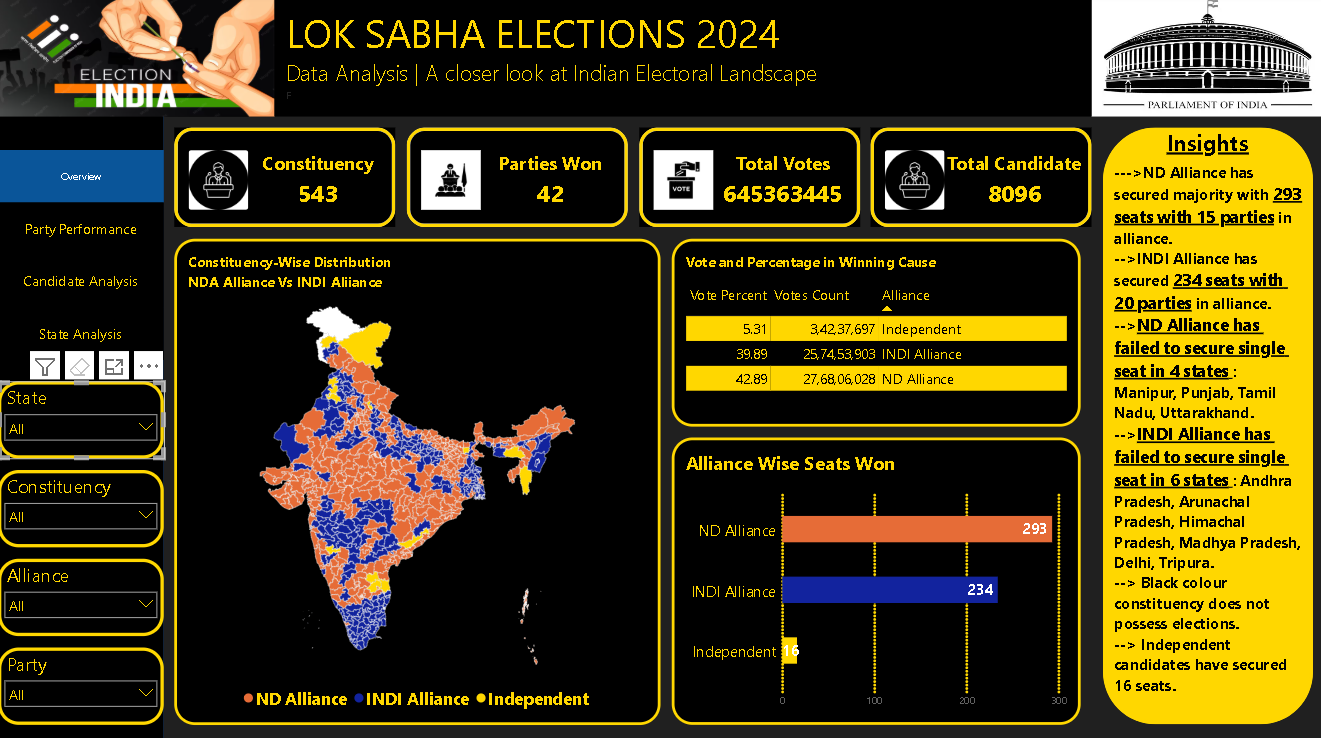

The page's visual inventory and layout, read from the dashboard file:
{"tool":"powerbi","page":{"name":"Overview","canvas":[1920,1080],"ordinal":0},"visuals":[{"type":"shape","box":[0,0,240,1080],"z":0},{"type":"shape","box":[240,0,1680,176],"z":1000},{"type":"image","box":[1584,0,336,176],"z":2000},{"type":"textbox","box":[416,16,928,160],"z":3000},{"type":"pageNavigator","box":[0,224,240,304],"z":4000},{"type":"shapeMap","title":"Constituency-Wise Distribution ","fields":{"Category":["constituency.Constituency"],"Series":["ndavsindi.Alliance"]},"box":[256,352,704,704],"z":5000},{"type":"cardVisual","fields":{"Data":["Sum(total_candidate_constituency.Total_Candidate)"]},"box":[1264,192,320,144],"z":6000},{"type":"cardVisual","fields":{"Data":["Sum(constituencywise_details.totaL_votes)"]},"box":[928,192,320,144],"z":7000},{"type":"cardVisual","fields":{"Data":["Count(constituency.party)"]},"box":[592,192,320,144],"z":8000},{"type":"slicer","fields":{"Values":["ndavsindi.Alliance"]},"box":[0,816,240,112],"z":9000},{"type":"image","box":[0,0,400,176],"z":10000},{"type":"clusteredBarChart","title":"Alliance Wise Seats Won","fields":{"Category":["ndavsindi.Alliance"],"Y":["CountNonNull(ndavsindi.constituency)"]},"box":[976,640,592,416],"z":11000},{"type":"slicer","fields":{"Values":["constituency.Constituency"]},"box":[0,688,240,112],"z":12000},{"type":"slicer","fields":{"Values":["ndavsindi.party"]},"box":[0,944,240,112],"z":13000},{"type":"slicer","fields":{"Values":["constituency.State"]},"box":[0,560,240,112],"z":14000},{"type":"cardVisual","fields":{"Data":["Count(constituency.Constituency)"]},"box":[256,192,320,144],"z":15000},{"type":"tableEx","title":"Vote and Percentage in Winning Cause","fields":{"Values":["Sum(party_votes_percentage.Vote_Share)","Sum(party_votes_percentage.Votes)","ndavsindi.Alliance"]},"box":[976,352,592,272],"z":16000},{"type":"shape","box":[1600,192,304,864],"z":17000},{"type":"textbox","box":[1680,192,144,48],"z":18000},{"type":"textbox","box":[1616,240,272,800],"z":19000}]}

Visuals, with their boxes on the page's 1920x1080 design canvas (x1, y1, x2, y2). These are canvas units, not pixel positions in the 1321x738 screenshot, which may show the page scaled, cropped or inside an application window:
shape: [0,0,240,1080]
shape: [240,0,1920,176]
image: [1584,0,1920,176]
textbox: [416,16,1344,176]
pageNavigator: [0,224,240,528]
"Constituency-Wise Distribution " shapeMap: [256,352,960,1056]
cardVisual - Sum(total_candidate_constituency.Total_Candidate): [1264,192,1584,336]
cardVisual - Sum(constituencywise_details.totaL_votes): [928,192,1248,336]
cardVisual - Count(constituency.party): [592,192,912,336]
slicer - ndavsindi.Alliance: [0,816,240,928]
image: [0,0,400,176]
"Alliance Wise Seats Won" clusteredBarChart: [976,640,1568,1056]
slicer - constituency.Constituency: [0,688,240,800]
slicer - ndavsindi.party: [0,944,240,1056]
slicer - constituency.State: [0,560,240,672]
cardVisual - Count(constituency.Constituency): [256,192,576,336]
"Vote and Percentage in Winning Cause" tableEx: [976,352,1568,624]
shape: [1600,192,1904,1056]
textbox: [1680,192,1824,240]
textbox: [1616,240,1888,1040]
